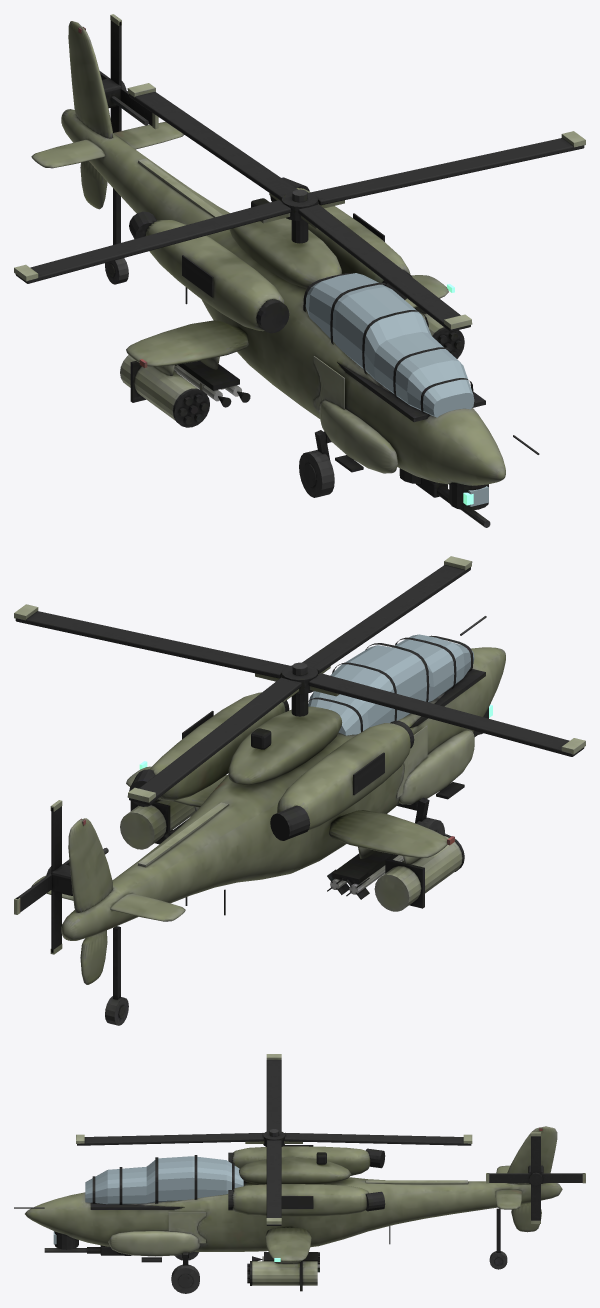
The model's file is heli.glb.
3 renders of one model, top to bottom at view 1: azimuth 30°, elevation 25°; view 2: azimuth 150°, elevation 25°; view 3: azimuth 270°, elevation 25°, orthographic. The views are drawn at different scales.
Visible parts, largest first — view 1: Shell_m, Blade_001_m, Canopy, Blade_002_m; view 2: Shell_m, Blade_001_m, Canopy, Blade_002_m; view 3: Shell_m, Blade_001_m, Canopy, Blade_002_m.
Part boxes in pixels (<box>): Shell_m: <box>31,21,539,527</box>; Blade_001_m: <box>14,83,585,331</box>; Canopy: <box>305,273,474,417</box>; Blade_002_m: <box>99,14,158,132</box>; Shell_m: <box>31,616,505,1025</box>; Blade_001_m: <box>14,556,585,804</box>; Canopy: <box>308,634,474,735</box>; Blade_002_m: <box>14,800,69,954</box>; Shell_m: <box>14,1126,562,1293</box>; Blade_001_m: <box>76,1054,472,1225</box>; Canopy: <box>85,1156,243,1204</box>; Blade_002_m: <box>486,1132,585,1223</box>.
Size of the model in its own units: 11.65 by 4.92 by 16.82.
5 materials, 3 textured.
